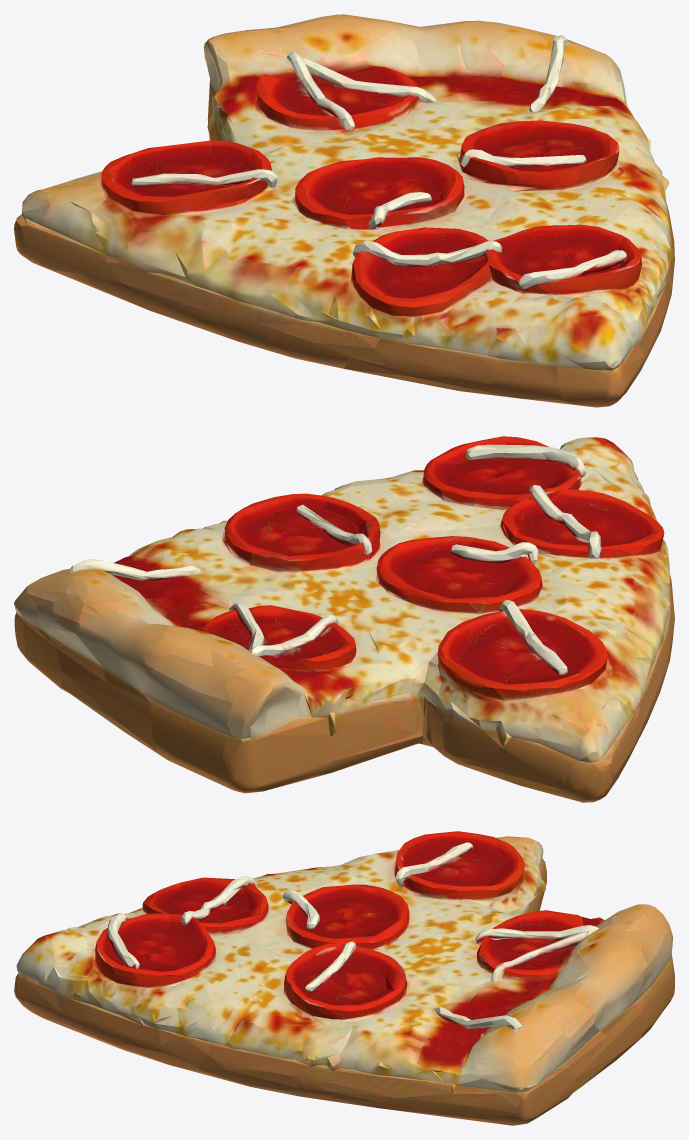
Rendered from addy_lunch_pizza.glb.
The picture shows the model from 3 angles, top to bottom: view 1: azimuth 30°, elevation 25°; view 2: azimuth 150°, elevation 25°; view 3: azimuth 270°, elevation 25°; orthographic projection. The views are drawn at different scales.
Bounding box in the file's own units: 1.68 × 0.3143 × 1.9.
Materials: 1 (1 with a texture image).
